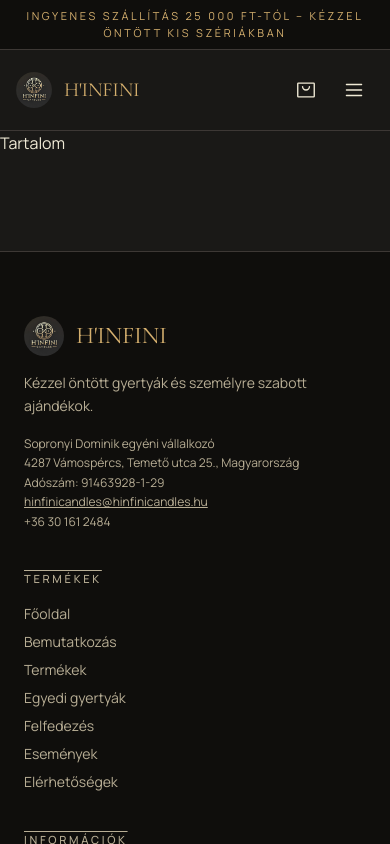
Test: mobile menu escapes the filtered header, navigates and restores its trigger
Later steps or results of the test are not shown.
Step 1. Click the button with test id "mobile-menu-toggle" → click(354, 90), box left=334, top=70, right=374, bottom=110
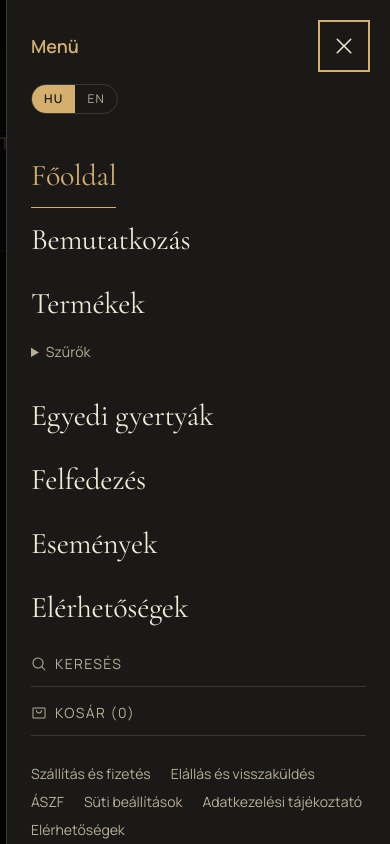
Check: the element with test id "mobile-menu" does not show "Candles"
Check: the dialog with test id "mobile-menu" is shown
Check: the dialog with test id "mobile-menu" shows "Egyedi gyertyák", box left=31, top=386, right=213, bottom=446
Step 2. Click the link with test id "mobile-nav-shop" → click(88, 304), box left=31, top=274, right=145, bottom=334
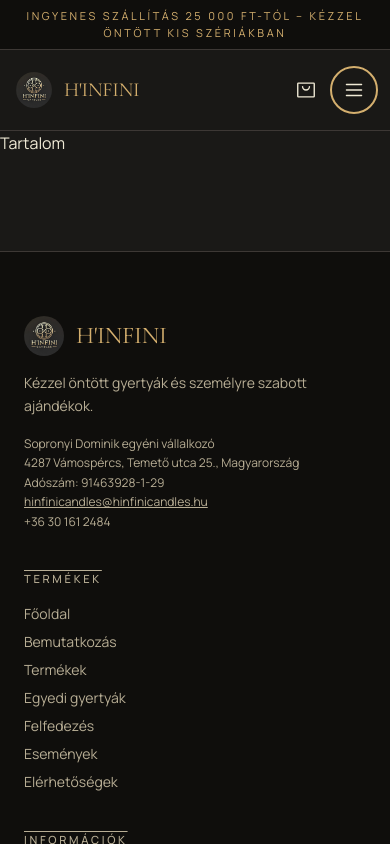
Check: the dialog with test id "mobile-menu" is gone
